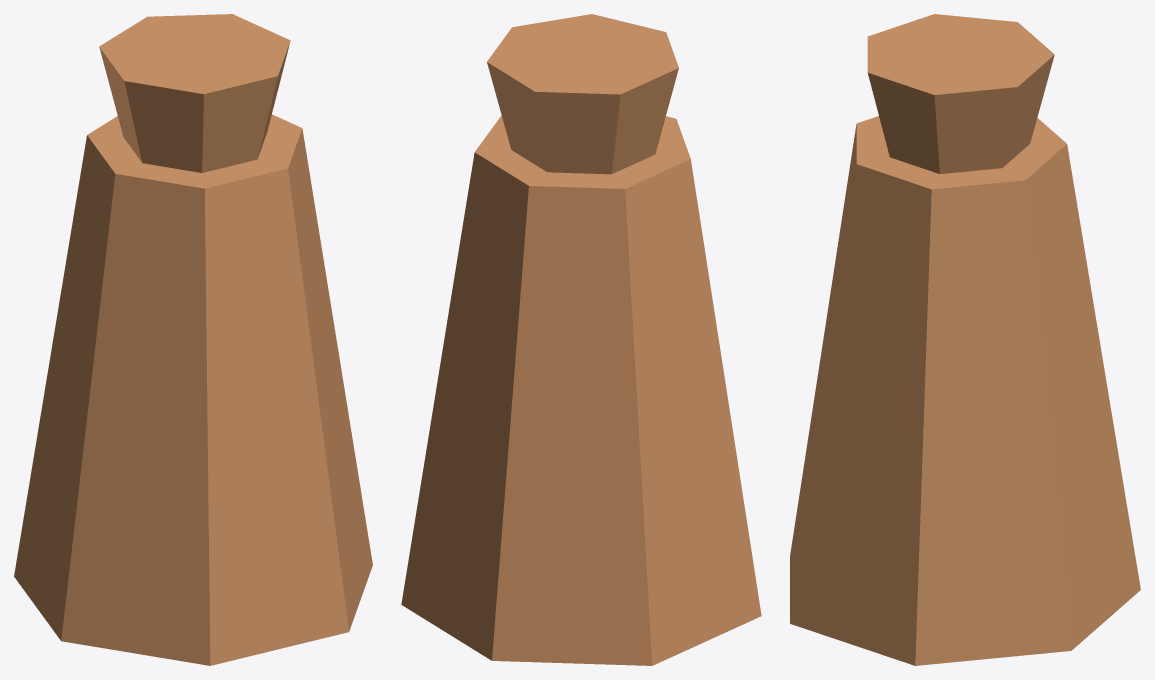
The model's file is jar_small.glb.
3 renders of one model, left to right at view 1: azimuth 30°, elevation 25°; view 2: azimuth 150°, elevation 25°; view 3: azimuth 270°, elevation 25°, orthographic.
Parts seen in each view (by area): view 1: jar_small; view 2: jar_small; view 3: jar_small.
Part boxes in pixels (left/top/right/bottom): jar_small: left=14, top=14, right=372, bottom=665; jar_small: left=401, top=14, right=761, bottom=665; jar_small: left=790, top=14, right=1140, bottom=665.
Size of the model in its own units: 0.2925 by 0.48 by 0.2851.
